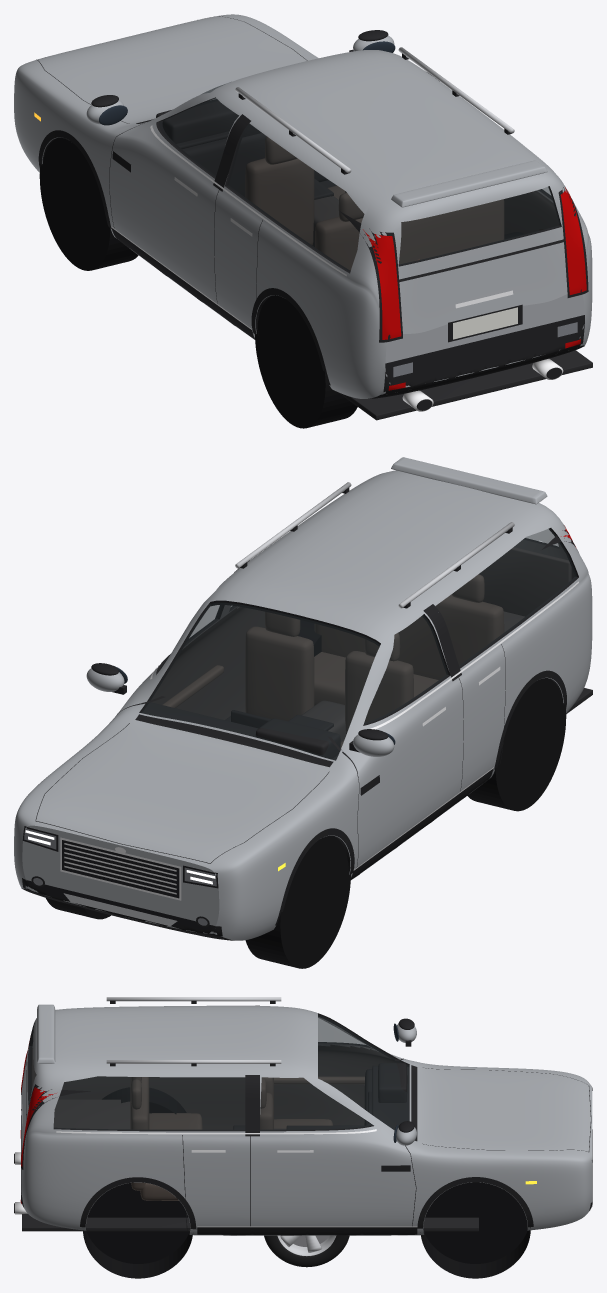
The model's file is suv.glb.
3 views of the same model, one above another, from view 1: azimuth 30°, elevation 25°; view 2: azimuth 150°, elevation 25°; view 3: azimuth 270°, elevation 25° (orthographic). The views are drawn at different scales.
Parts seen in each view (by area): view 1: Part_CarPaint.002, Part_CarPaint.006, Part_CarPaint.001, Part_CarPaint.007, Part_CarPaint, Part_CarPaint.011, Part_CarPaint.014, Part_CarPaint.004, Part_CarPaint.008, Part_CarPaint.012, Part_CarPaint.013, Part_CarPaint.003 (+1 smaller); view 2: Part_CarPaint.002, Part_CarPaint.006, Part_CarPaint, Part_CarPaint.001, Part_CarPaint.007, Part_CarPaint.004, Part_CarPaint.011, Part_CarPaint.008, Part_CarPaint.012, Part_CarPaint.009, Part_CarPaint.005; view 3: Part_CarPaint.002, Part_CarPaint.006, Part_CarPaint.007, Part_CarPaint.004, Part_CarPaint.001, Part_CarPaint.011, Part_CarPaint, Part_CarPaint.008, Part_CarPaint.012, W_Rubber_Tire, Part_CarPaint.014, W_RimAlloy_RimBarrel (+1 smaller).
Part boxes in pixels (<box>): Part_CarPaint.002: <box>14,14,592,398</box>; Part_CarPaint.006: <box>159,84,559,271</box>; Part_CarPaint.001: <box>38,30,588,410</box>; Part_CarPaint.007: <box>39,137,524,428</box>; Part_CarPaint: <box>245,136,504,270</box>; Part_CarPaint.011: <box>36,16,592,420</box>; Part_CarPaint.014: <box>363,187,586,390</box>; Part_CarPaint.004: <box>312,191,559,246</box>; Part_CarPaint.008: <box>111,125,563,411</box>; Part_CarPaint.012: <box>235,47,514,173</box>; Part_CarPaint.013: <box>453,307,517,339</box>; Part_CarPaint.003: <box>368,345,584,398</box>; Part_CarPaint.002: <box>14,457,592,940</box>; Part_CarPaint.006: <box>141,529,576,760</box>; Part_CarPaint: <box>162,574,504,747</box>; Part_CarPaint.001: <box>22,487,578,939</box>; Part_CarPaint.007: <box>46,620,566,968</box>; Part_CarPaint.004: <box>151,547,574,741</box>; Part_CarPaint.011: <box>31,644,592,927</box>; Part_CarPaint.008: <box>60,581,578,900</box>; Part_CarPaint.012: <box>63,482,514,926</box>; Part_CarPaint.009: <box>24,828,216,925</box>; Part_CarPaint.005: <box>182,539,568,649</box>; Part_CarPaint.002: <box>21,1004,592,1235</box>; Part_CarPaint.006: <box>29,1015,408,1130</box>; Part_CarPaint.007: <box>83,1087,530,1278</box>; Part_CarPaint.004: <box>31,1044,423,1230</box>; Part_CarPaint.001: <box>14,1000,592,1235</box>; Part_CarPaint.011: <box>22,1057,591,1231</box>; Part_CarPaint: <box>130,1076,364,1200</box>; Part_CarPaint.008: <box>15,1104,417,1227</box>; Part_CarPaint.012: <box>106,997,281,1063</box>; W_Rubber_Tire: <box>264,1235,349,1267</box>; Part_CarPaint.014: <box>20,1041,56,1203</box>; W_RimAlloy_RimBarrel: <box>277,1235,335,1256</box>.
Bounding box in the file's own units: 2.45 × 2.28 × 5.13.
